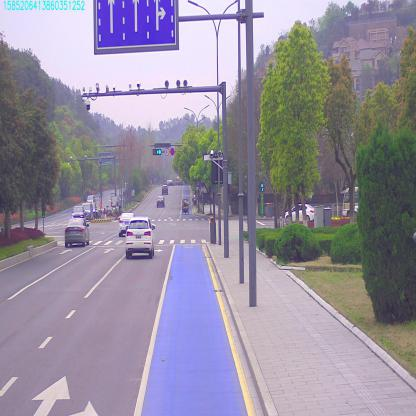traffic-light: (151, 147, 162, 156)
